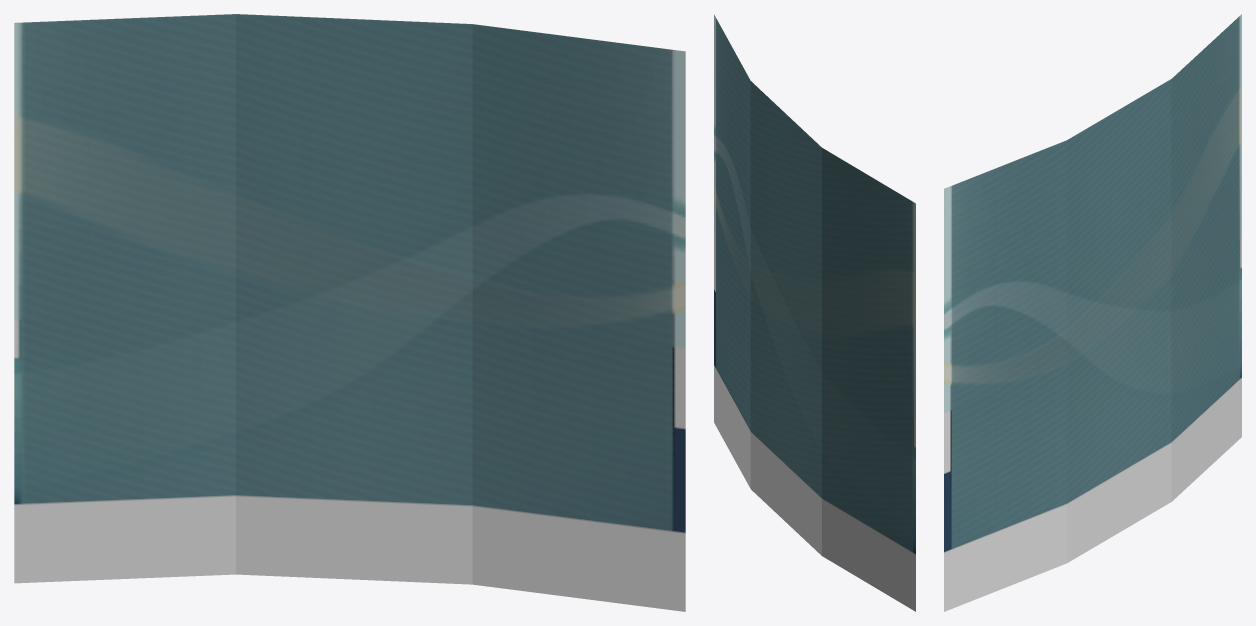
File: env_museumBanner01.FBX
The picture shows the model from 3 angles, left to right: view 1: azimuth 30°, elevation 25°; view 2: azimuth 150°, elevation 25°; view 3: azimuth 270°, elevation 25°; orthographic projection. The views are drawn at different scales.
Visible parts, largest first — view 1: env_museumBanner01; view 2: env_museumBanner01; view 3: env_museumBanner01.
Boxes of the visible parts, x1,y1,x2,y2 form: env_museumBanner01: (14,14,685,611); env_museumBanner01: (714,14,915,611); env_museumBanner01: (944,14,1241,611).
Size of the model in its own units: 7.47 by 8.44 by 5.38.
Materials: 1 (1 with a texture image).
